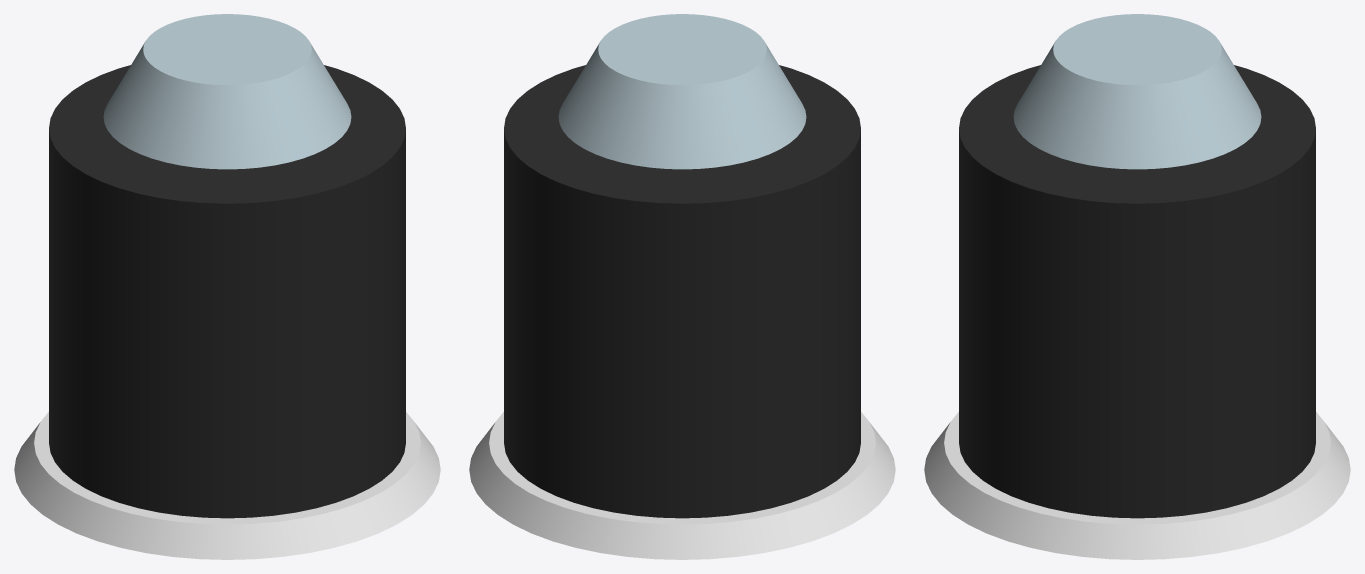
The model's file is echo-speaker.glb.
3 renders of one model, left to right at view 1: azimuth 30°, elevation 25°; view 2: azimuth 150°, elevation 25°; view 3: azimuth 270°, elevation 25°, orthographic.
Bounding box in the file's own units: 1.72 × 1.87 × 1.72.
